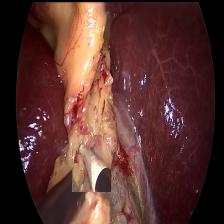Hook: (71, 134, 110, 191)
